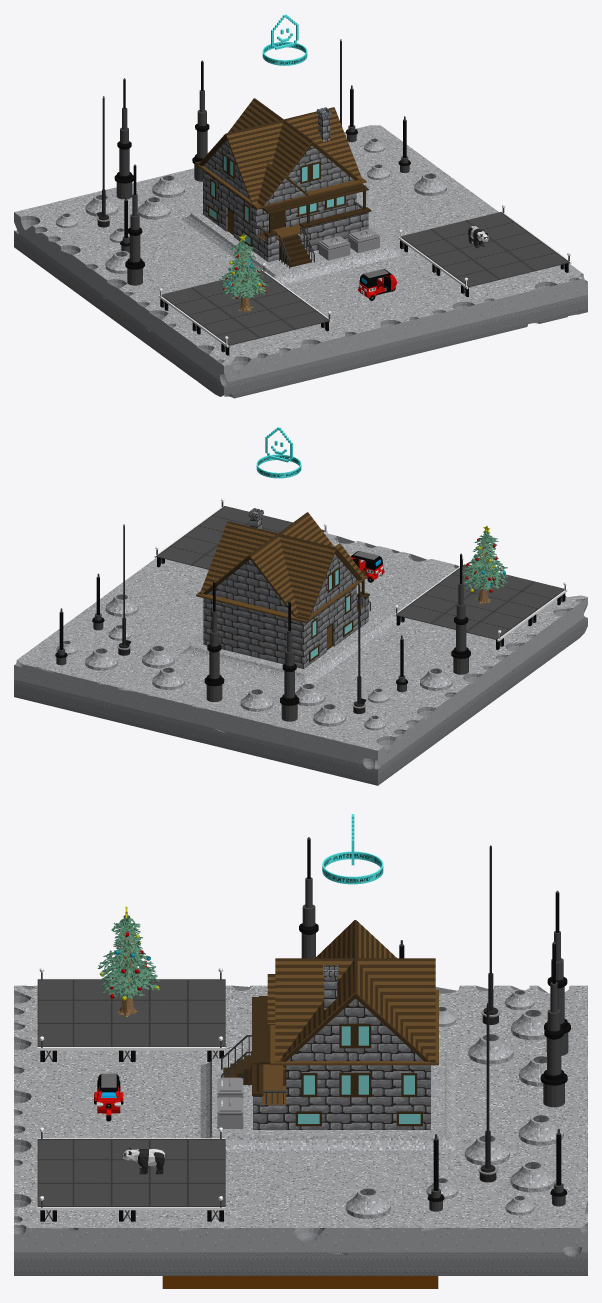
3 views of the same model, one above another, from view 1: azimuth 30°, elevation 25°; view 2: azimuth 150°, elevation 25°; view 3: azimuth 270°, elevation 25° (orthographic). The views are drawn at different scales.
Parts seen in each view (by area): view 1: Cube.027, Cube.586, Cube.026, Cube.025, Cube.028, OBJRANDOM_CHRISTMAS_TREE, Cylinder.021, Cylinder.020, Cylinder.017, TYPE_PREMIUM, VEHICLES_TUC_TUC, Cube.029 (+5 smaller); view 2: Cube.027, Cube.586, Cube.025, Cube.028, Cube.026, OBJRANDOM_CHRISTMAS_TREE, Cylinder.017, Cylinder.020, Cylinder.021, TYPE_PREMIUM, VEHICLES_TUC_TUC, Cylinder.028 (+8 smaller); view 3: Cube.027, Cube.586, Cube.026, Cube.025, Cube.028, UNDERGROUND_ART_PIECE_VAN_GOGH, OBJRANDOM_CHRISTMAS_TREE, Cylinder.017, Cylinder.020, TYPE_PREMIUM, Cylinder.021, Cylinder.031 (+13 smaller).
Boxes of the visible parts, x1,y1,x2,y2 form: Cube.027: [14, 125, 587, 398]; Cube.586: [195, 98, 371, 268]; Cube.026: [398, 204, 571, 296]; Cube.025: [158, 263, 331, 355]; Cube.028: [181, 210, 401, 284]; OBJRANDOM_CHRISTMAS_TREE: [219, 234, 268, 311]; Cylinder.021: [125, 164, 144, 285]; Cylinder.020: [114, 78, 133, 199]; Cylinder.017: [192, 60, 209, 181]; TYPE_PREMIUM: [262, 14, 307, 65]; VEHICLES_TUC_TUC: [358, 269, 397, 300]; Cube.029: [318, 236, 350, 260]; Cube.027: [14, 533, 587, 785]; Cube.586: [196, 508, 370, 668]; Cube.025: [394, 557, 567, 649]; Cube.028: [180, 607, 396, 684]; Cube.026: [154, 498, 327, 569]; OBJRANDOM_CHRISTMAS_TREE: [462, 525, 507, 603]; Cylinder.017: [204, 581, 224, 702]; Cylinder.020: [280, 600, 299, 721]; Cylinder.021: [451, 553, 470, 674]; TYPE_PREMIUM: [256, 427, 301, 478]; VEHICLES_TUC_TUC: [350, 551, 384, 582]; Cylinder.028: [313, 703, 346, 726]; Cube.027: [14, 985, 587, 1275]; Cube.586: [221, 920, 438, 1129]; Cube.026: [37, 1127, 225, 1221]; Cube.025: [37, 967, 225, 1061]; Cube.028: [200, 1058, 455, 1150]; UNDERGROUND_ART_PIECE_VAN_GOGH: [162, 1276, 438, 1288]; OBJRANDOM_CHRISTMAS_TREE: [97, 906, 160, 1016]; Cylinder.017: [540, 941, 567, 1107]; Cylinder.020: [544, 890, 570, 1055]; TYPE_PREMIUM: [322, 814, 383, 884]; Cylinder.021: [299, 837, 318, 958]; Cylinder.031: [510, 1161, 555, 1192].
Bounding box in the file's own units: 4000 × 2829 × 4000.
35 materials, 7 textured.
